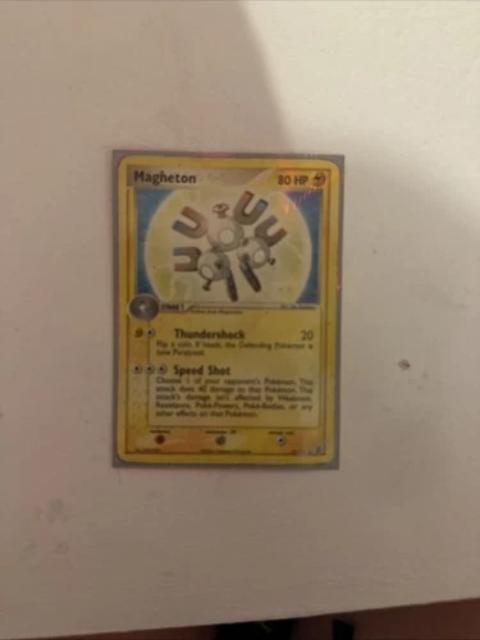Card: (109, 151, 346, 466)
Name: (125, 164, 198, 186)
